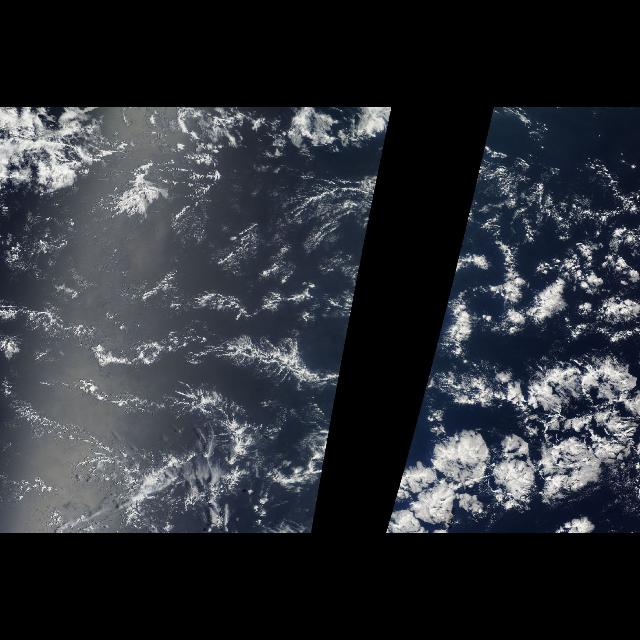Fish: (86, 183, 367, 532)
Flower: (401, 192, 634, 530)
